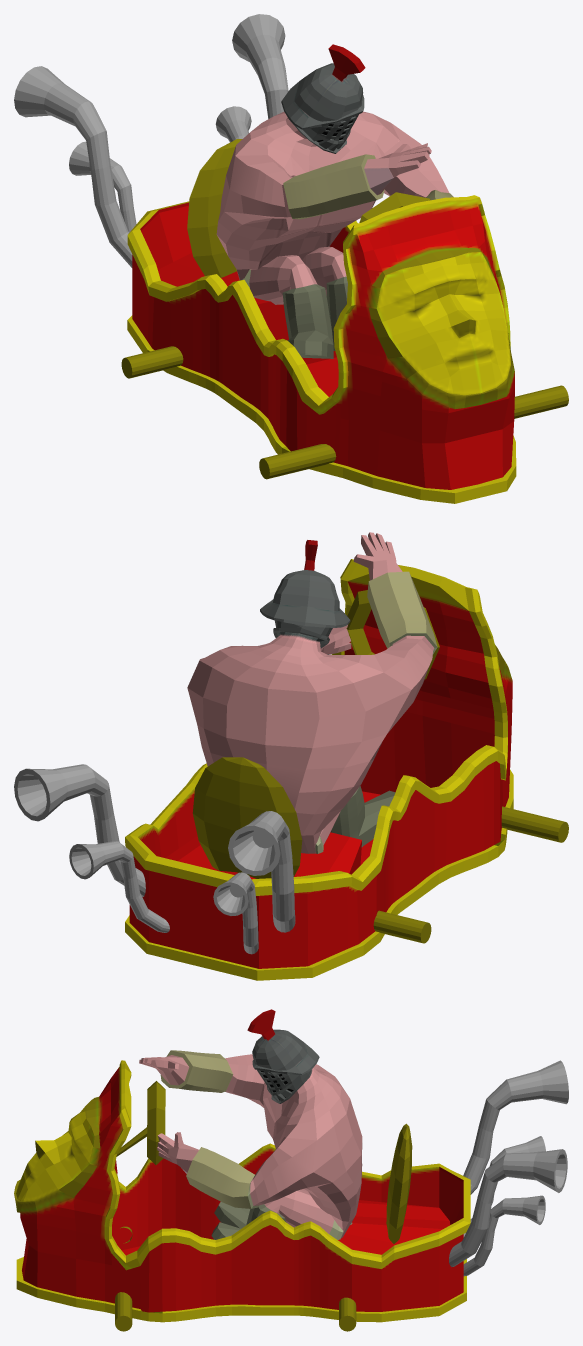
The model's file is gladiVacile_000512.obj.
The picture shows the model from 3 angles, top to bottom: view 1: azimuth 30°, elevation 25°; view 2: azimuth 150°, elevation 25°; view 3: azimuth 270°, elevation 25°; orthographic projection. The views are drawn at different scales.
Visible parts, largest first — view 1: GladiChasis_GladiChasisH, Gadiador_Gladiador_H.001, GladiTubos_GladiTubosH, GladiVolante_GladiVolanteH; view 2: GladiChasis_GladiChasisH, Gadiador_Gladiador_H.001, GladiTubos_GladiTubosH, GladiVolante_GladiVolanteH; view 3: GladiChasis_GladiChasisH, Gadiador_Gladiador_H.001, GladiTubos_GladiTubosH, GladiVolante_GladiVolanteH.
Part boxes in pixels (bbox=[...]): GladiChasis_GladiChasisH: bbox=[127, 195, 516, 503]; Gadiador_Gladiador_H.001: bbox=[216, 44, 453, 358]; GladiTubos_GladiTubosH: bbox=[14, 14, 288, 267]; GladiVolante_GladiVolanteH: bbox=[121, 139, 568, 479]; GladiChasis_GladiChasisH: bbox=[125, 559, 513, 980]; Gadiador_Gladiador_H.001: bbox=[187, 532, 437, 853]; GladiTubos_GladiTubosH: bbox=[14, 764, 295, 954]; GladiVolante_GladiVolanteH: bbox=[192, 590, 568, 943]; GladiChasis_GladiChasisH: bbox=[14, 1060, 470, 1322]; Gadiador_Gladiador_H.001: bbox=[139, 1009, 362, 1239]; GladiTubos_GladiTubosH: bbox=[449, 1060, 568, 1276]; GladiVolante_GladiVolanteH: bbox=[115, 1081, 412, 1331].
Size of the model in its own units: 5.46 by 5.83 by 10.78.
